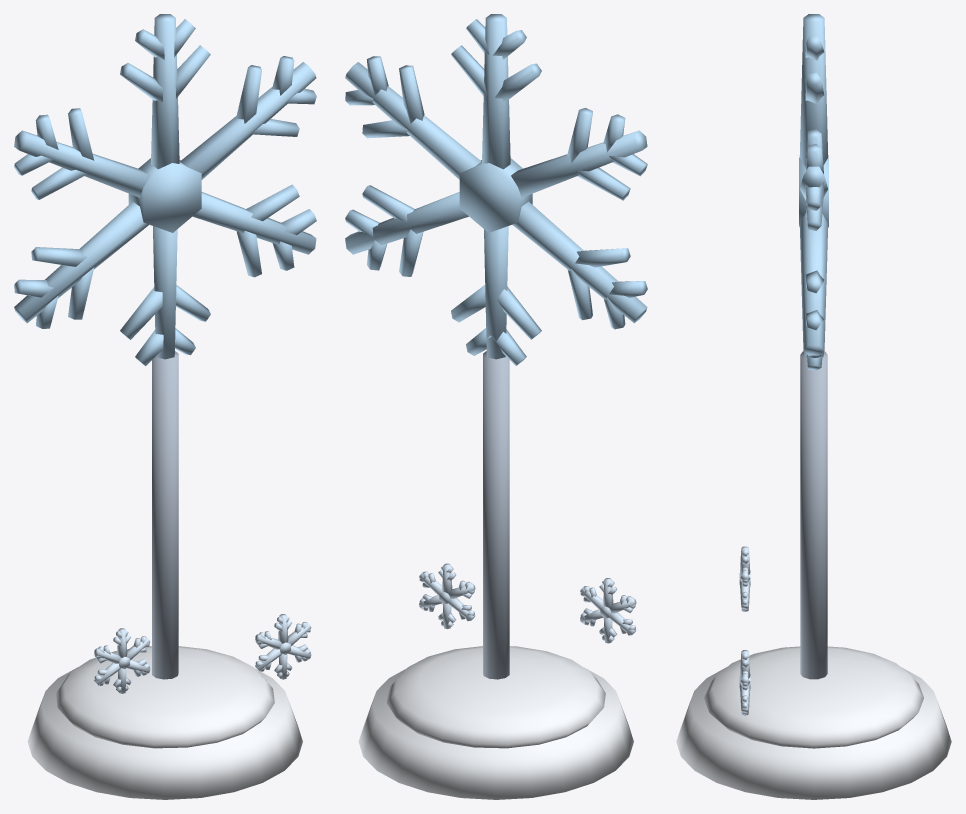
The model's file is snowflake-lamp.glb.
3 views of the same model, side by side, from view 1: azimuth 30°, elevation 25°; view 2: azimuth 150°, elevation 25°; view 3: azimuth 270°, elevation 25° (orthographic).
Visible parts, largest first — view 1: lamp; view 2: lamp; view 3: lamp.
Part boxes in pixels (x1,y1,x2,y2): lamp: [14, 14, 316, 799]; lamp: [345, 14, 647, 799]; lamp: [676, 14, 951, 799].
Bounding box in the file's own units: 0.5008 × 1.16 × 0.4.
